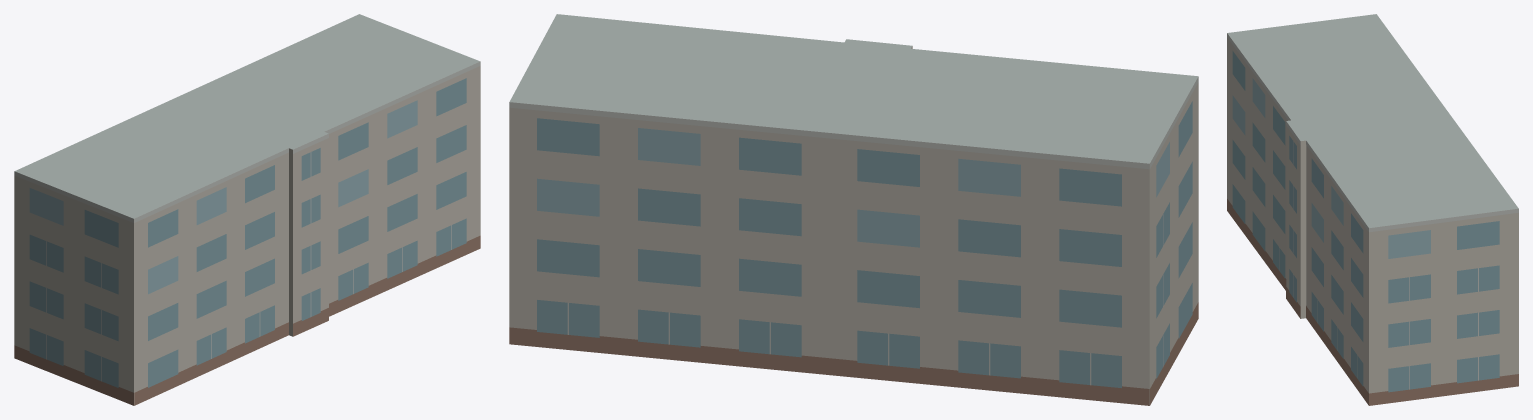
File: survey-upis-32570161.glb
3 renders of one model, left to right at view 1: azimuth 30°, elevation 25°; view 2: azimuth 150°, elevation 25°; view 3: azimuth 270°, elevation 25°, orthographic. The views are drawn at different scales.
Visible parts, largest first — view 1: survey-upis-32570161.tmp; view 2: survey-upis-32570161.tmp; view 3: survey-upis-32570161.tmp.
Boxes of the visible parts, x1,y1,x2,y2 form: survey-upis-32570161.tmp: [14, 14, 480, 405]; survey-upis-32570161.tmp: [509, 14, 1198, 405]; survey-upis-32570161.tmp: [1227, 14, 1518, 405].
Bounding box in the file's own units: 27.41 × 10.6 × 15.79.
